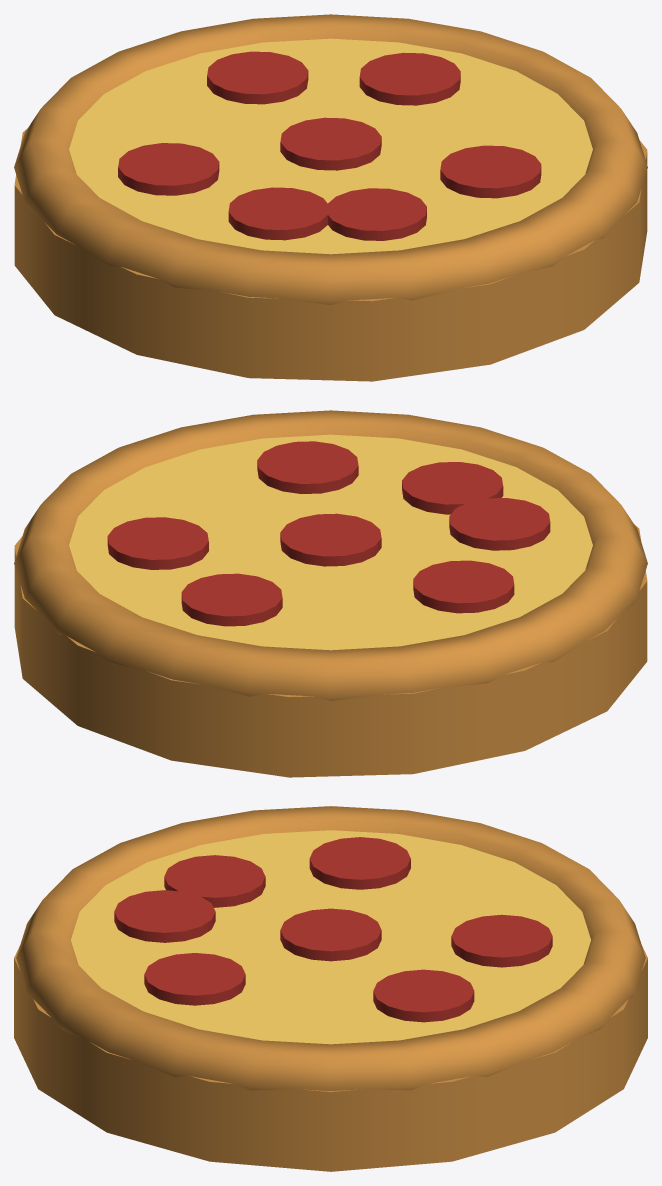
File: pizza-pepperoni.glb
3 renders of one model, top to bottom at view 1: azimuth 30°, elevation 25°; view 2: azimuth 150°, elevation 25°; view 3: azimuth 270°, elevation 25°, orthographic.
Visible parts, largest first — view 1: pizza-pepperoni; view 2: pizza-pepperoni; view 3: pizza-pepperoni.
Boxes of the visible parts, box(x1,y1,x2,y2) form: pizza-pepperoni: box(14, 14, 647, 381); pizza-pepperoni: box(14, 410, 647, 777); pizza-pepperoni: box(14, 806, 647, 1171).
Size of the model in its own units: 1.44 by 0.2705 by 1.44.
